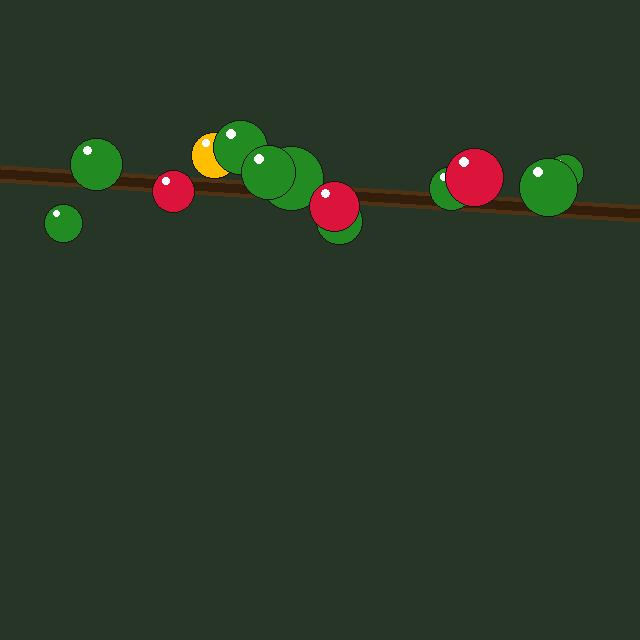Ripe: (445, 148, 503, 206), (309, 181, 359, 231), (152, 170, 194, 212)
Ripening: (191, 132, 237, 178)
Unripe: (259, 146, 323, 210), (519, 158, 577, 216), (213, 120, 267, 174), (241, 145, 295, 199), (70, 138, 122, 190), (316, 198, 362, 244), (429, 166, 473, 210), (44, 204, 82, 242), (547, 154, 583, 190)
